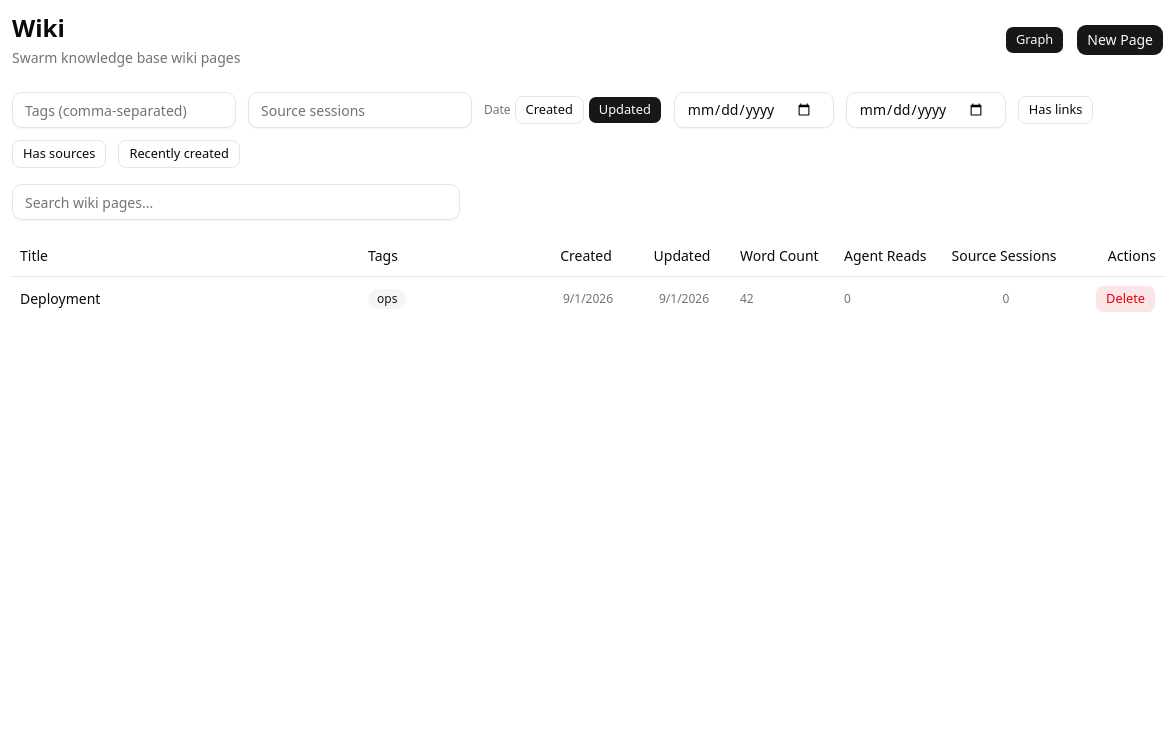
Test case: WikiPage list view › shows an error toast when the search request fails
Check: the text "Deployment" is shown, box [20,288,100,308]
Type "deploy" into the field with placeholder "Search wiki pages..." at (236, 202), box [12,184,460,220]
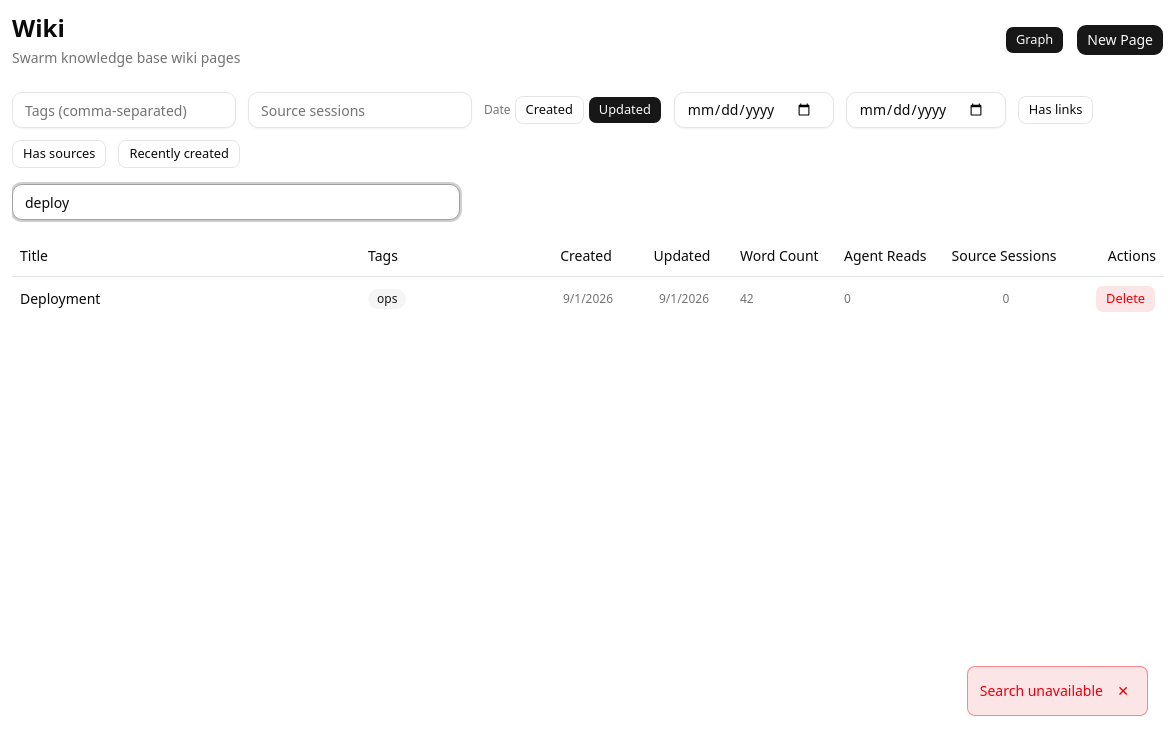
Check: the number of messages is 1, box [967,666,1148,716]
Check: the message shows "Search unavailable", box [980,681,1103,700]
